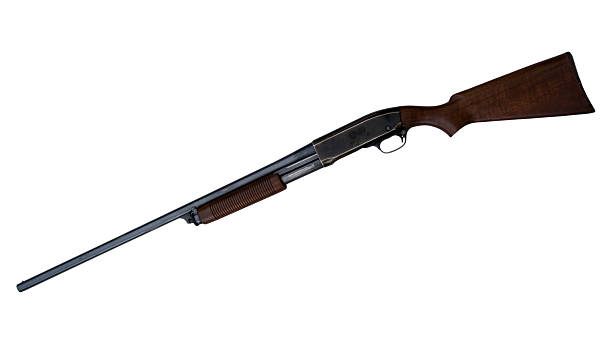shotgun: (14, 51, 594, 293)
